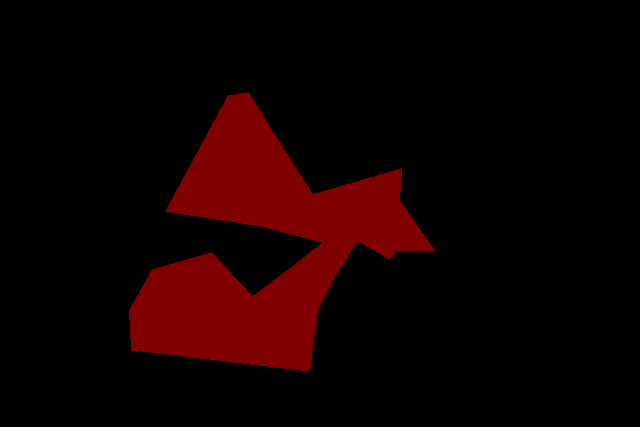fire: (129, 92, 434, 371)
